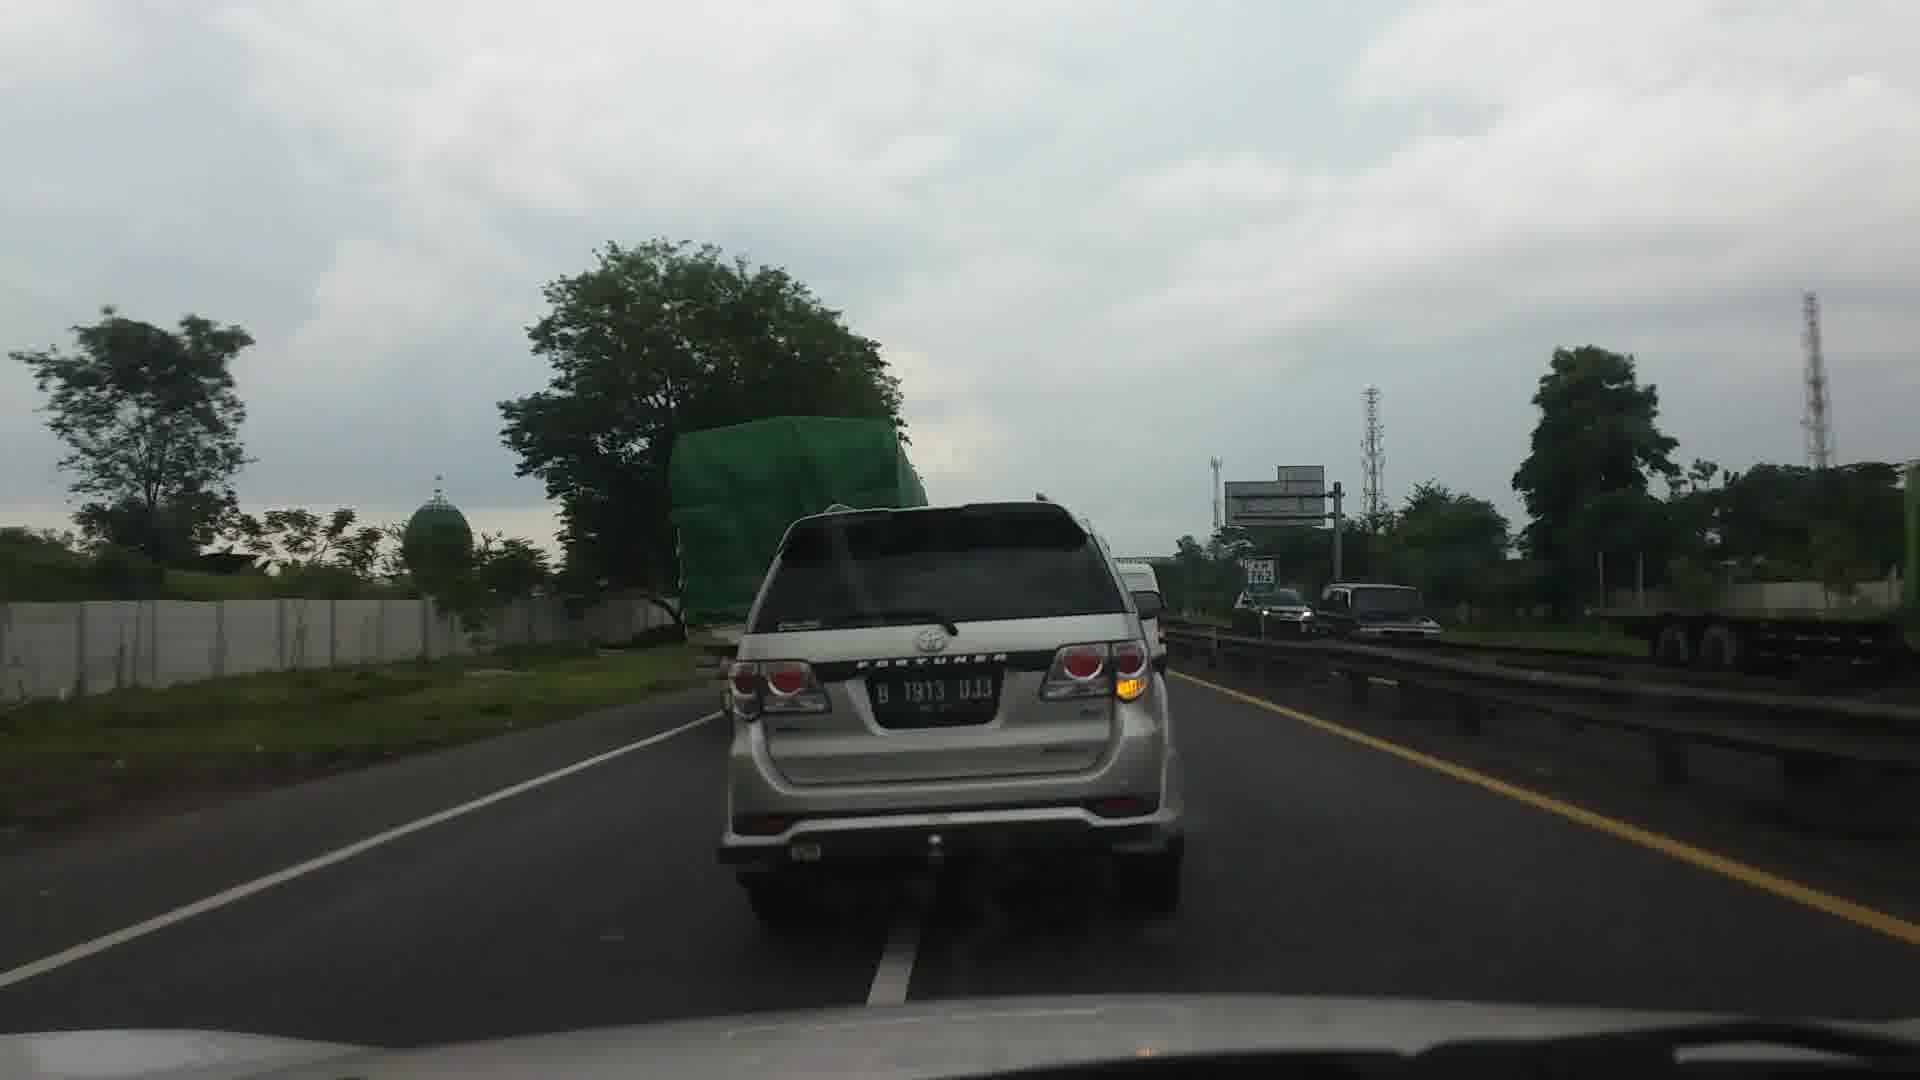plate_positive: (872, 676, 996, 713)
